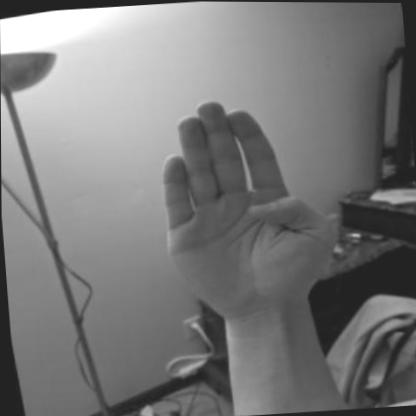B: (131, 79, 356, 340)
